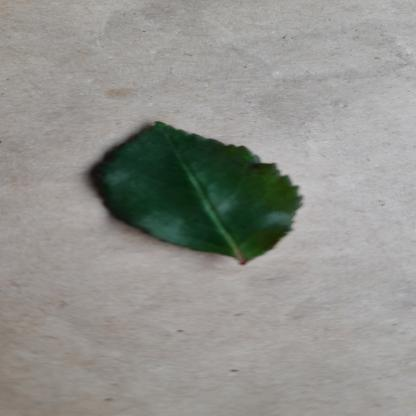normal: (74, 121, 316, 259)
